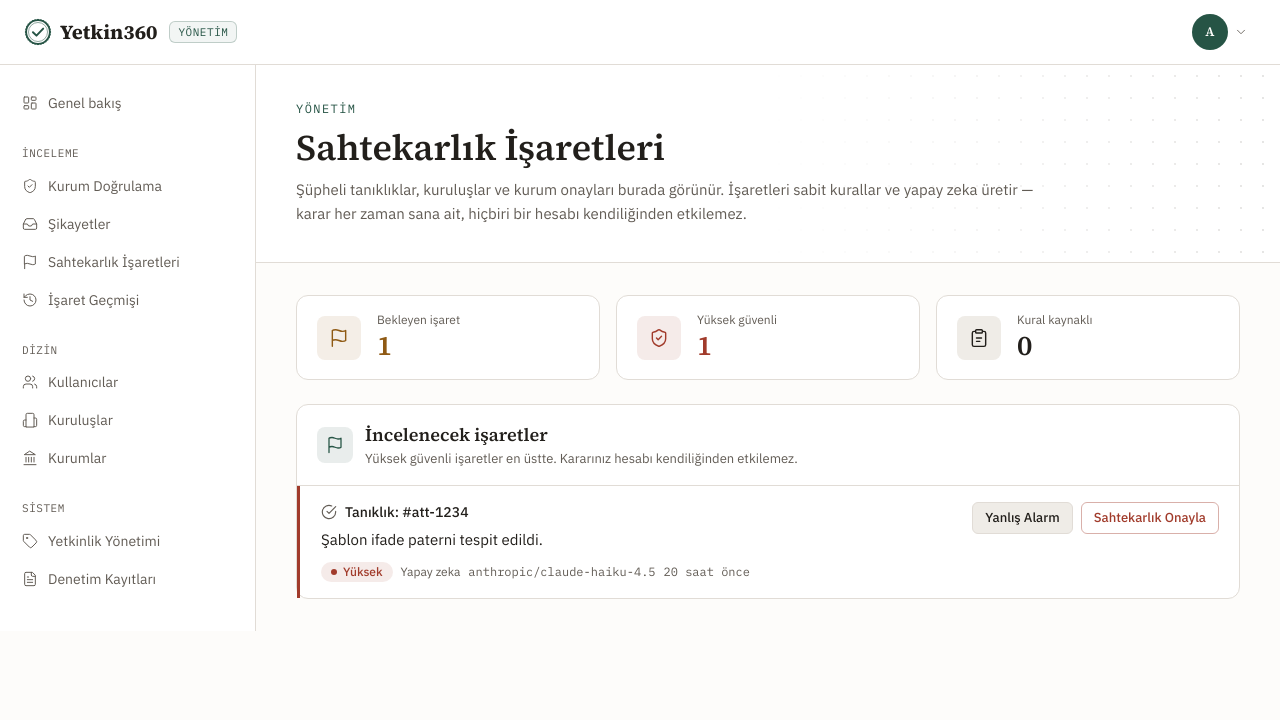
Test case: SahtekarlikIsaretleriPage (/admin/sahtekarlik-isaretleri) › 409 NOT_PENDING hatasında uyarı mesajı gösterir
Expected: the text "Şablon ifade paterni tespit edildi." is shown, [321,530,543,548]
What coordinates should you click on to do the following:
click the button "Sahtekarlık Onayla"
I would click on:
 (1150, 518)
Its box is [1081,502,1219,534].
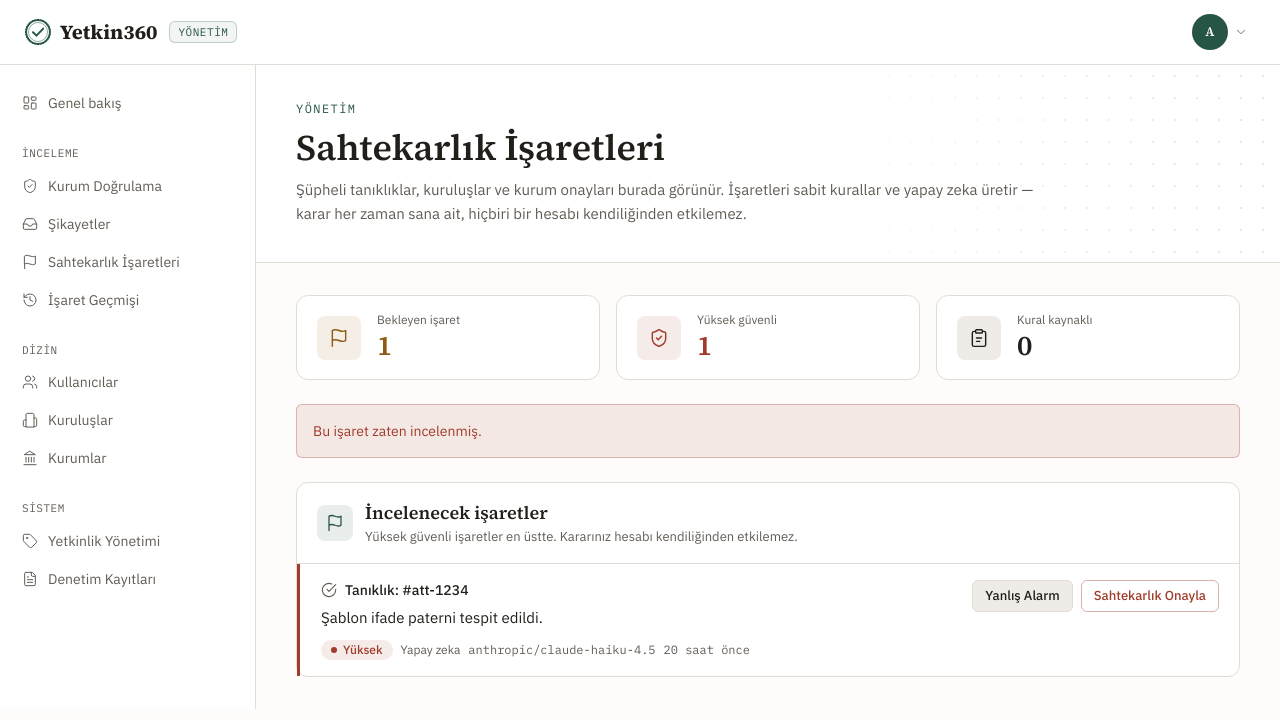
Expected: the text "Bu işaret zaten incelenmiş." is shown, [296,404,1240,458]
